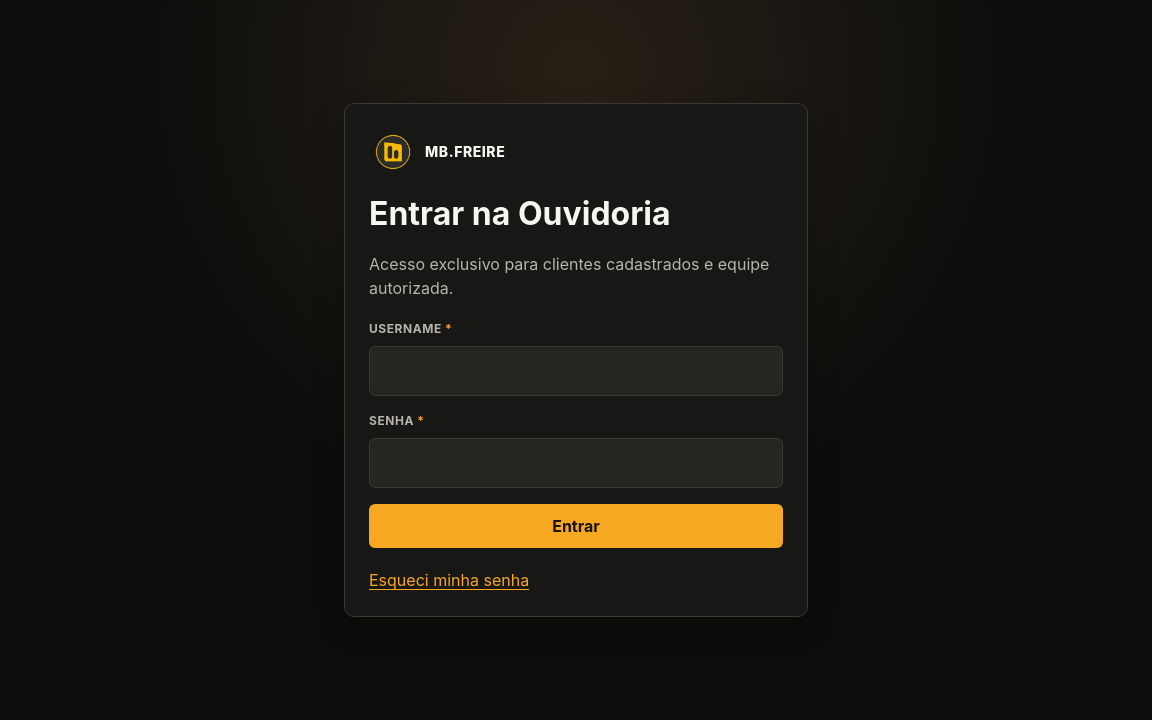
Test: mostra dados, mensagens na ordem do backend e nunca expõe username de ADMIN
Type "cliente" into the field labelled "Username" at (576,371), box [369, 346, 783, 396]
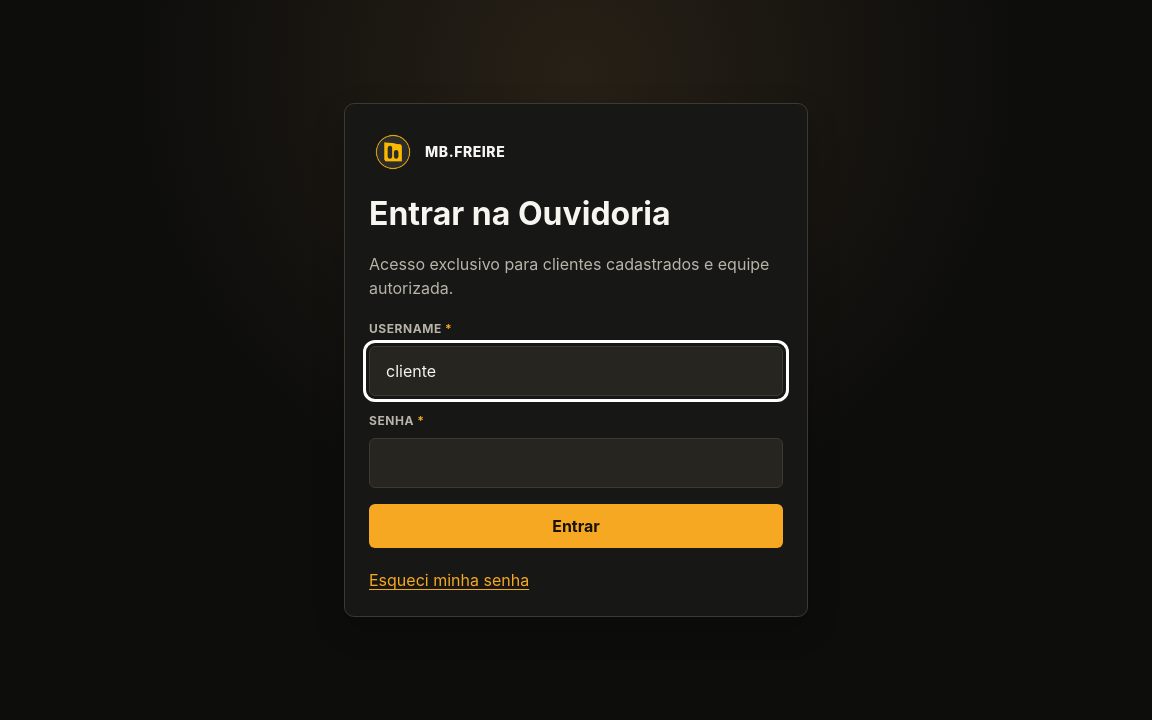
Type "senha-correta" into the password field labelled "Senha *" at (576,463), box [369, 438, 783, 488]
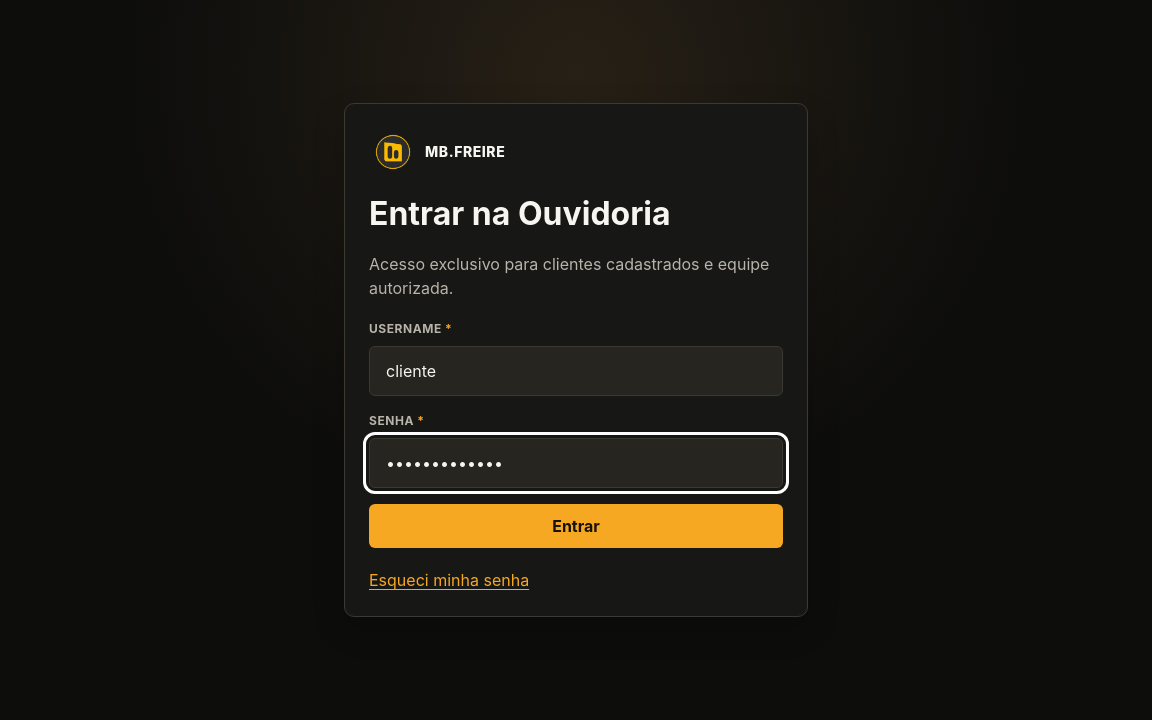
Click the button "Entrar" at (576,526), box [369, 504, 783, 548]
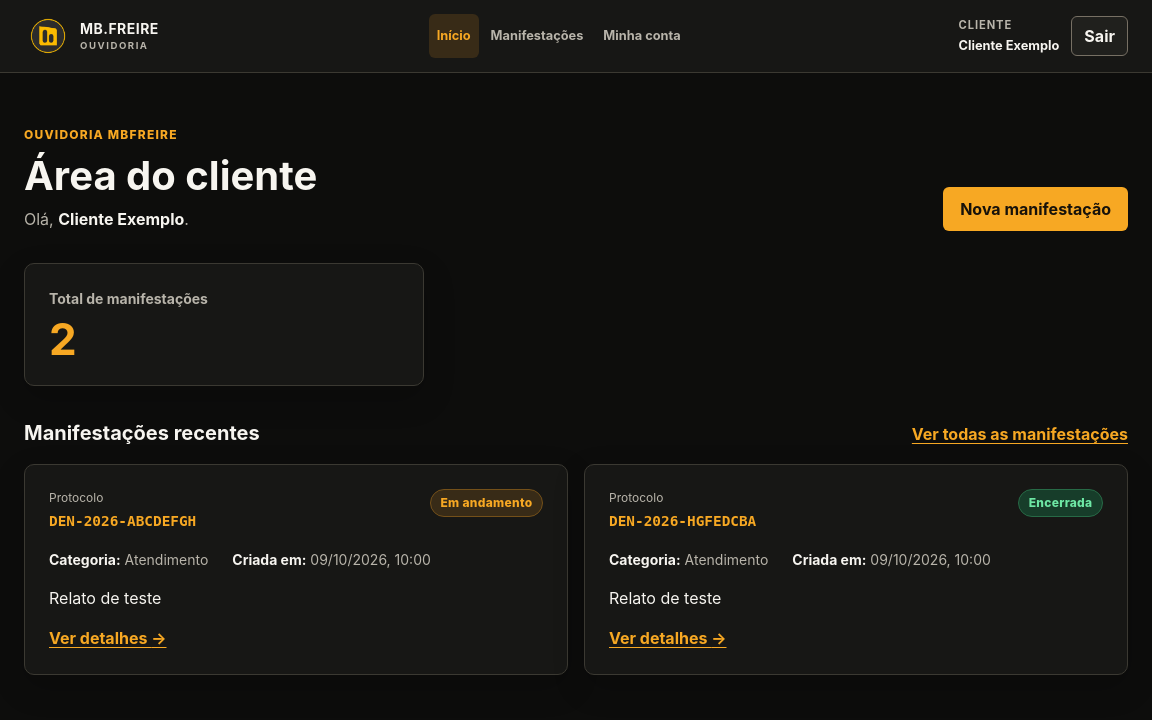
Click the link "Ver todas as manifestações" at (1020,434), box [912, 422, 1128, 446]
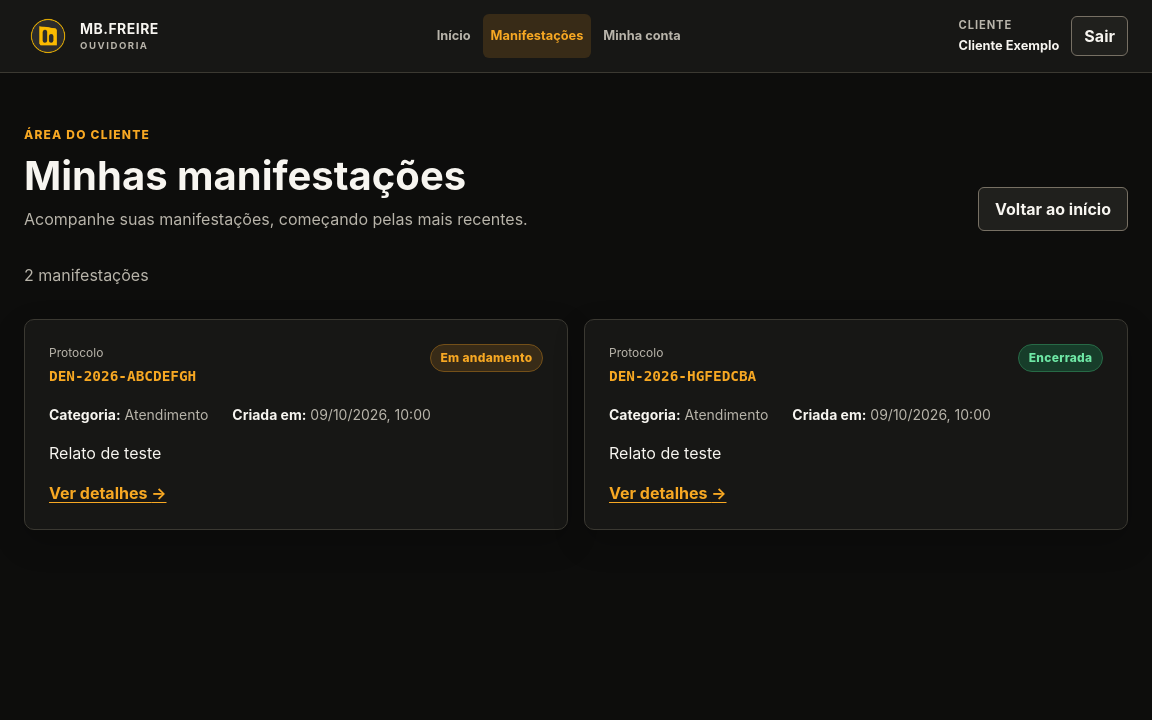
Expected: the link named "Ver detalhes da manifestação" is shown
Click the link named "Ver detalhes da manifestação" at (108,493), box [49, 481, 166, 505]
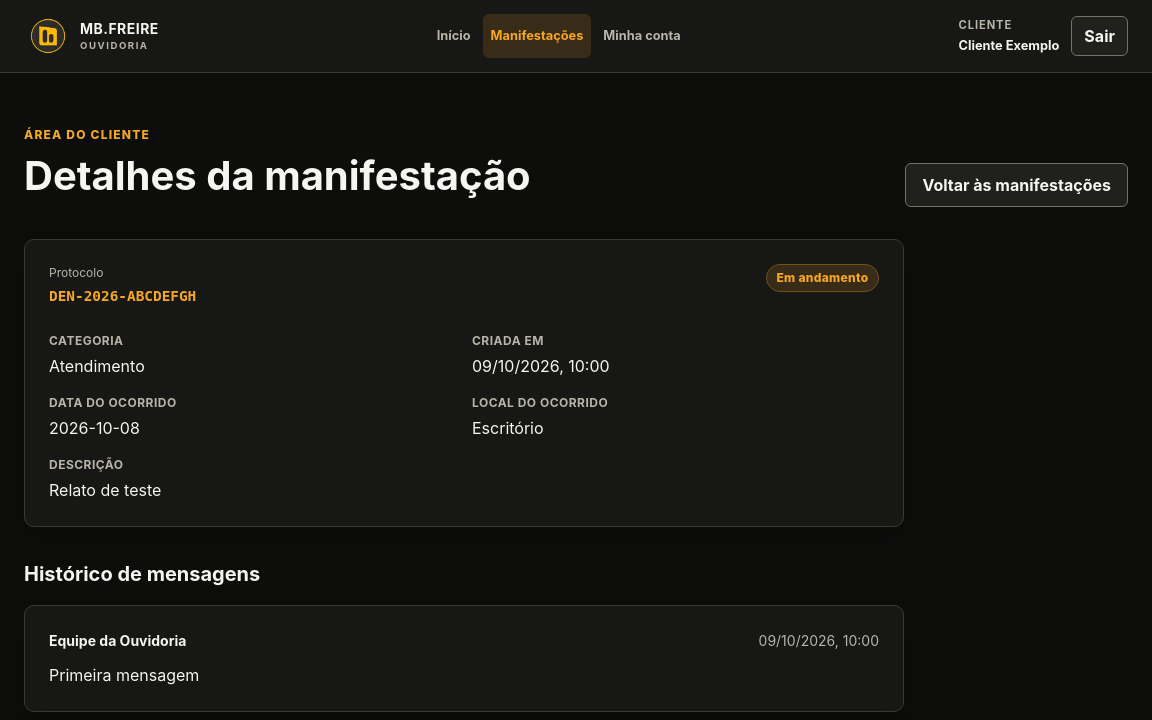
Expected: the text "DEN-2026-ABCDEFGH" is shown, [49, 286, 196, 308]
Expected: the heading "Detalhes da manifestação" is shown, [24, 153, 531, 199]
Expected: the text "Primeira mensagem" is shown, [49, 665, 199, 685]
